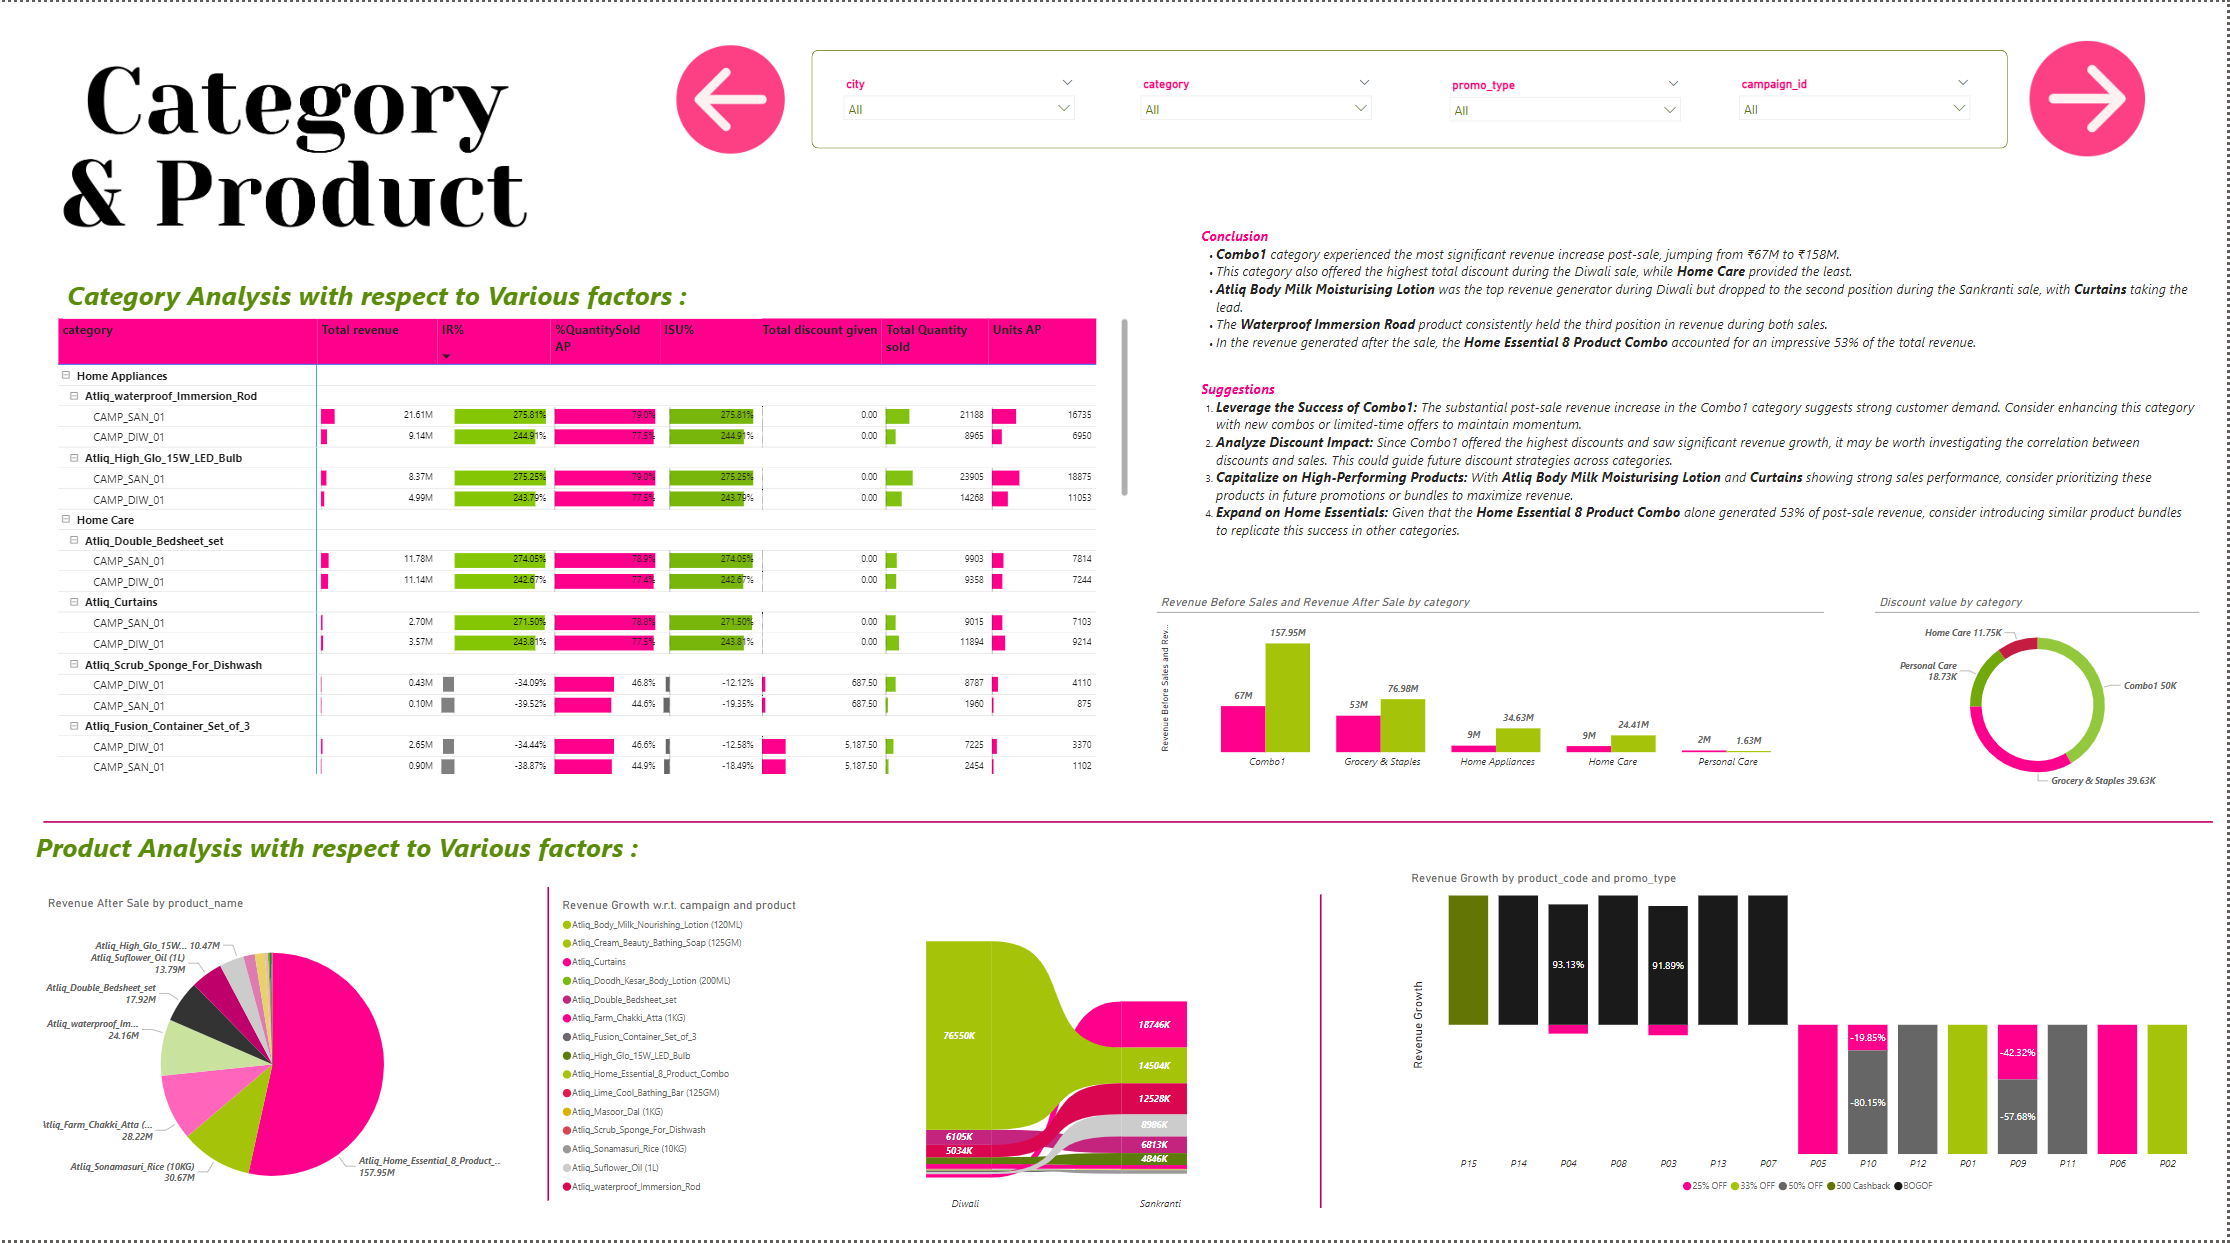

The page's visual inventory and layout, read from the dashboard file:
{"tool":"powerbi","page":{"name":"category","canvas":[1600,950],"ordinal":3},"visuals":[{"type":"group","id":"g1","title":"Group 2","box":[717.8,47,147.5,72.5],"z":0,"group":"g6"},{"type":"card","title":"Total revenue","fields":{"Values":["KPI.Total revenue"]},"box":[717.8,47,147.2,72.1],"z":0,"group":"g1"},{"type":"group","id":"g2","title":"Group 1","box":[1368.1,59.1,138.3,70.2],"z":0,"group":"g8"},{"type":"card","title":"ISU%","fields":{"Values":["KPI.ISU%"]},"box":[1368.1,59.1,137.4,69.9],"z":0,"group":"g2"},{"type":"group","id":"g3","title":"Group 1","box":[1206.4,70.4,137.5,70],"z":0,"group":"g7"},{"type":"card","title":"Incremental revenue","fields":{"Values":["KPI.Incremental Revenue"]},"box":[1206.4,70.4,137.4,69.9],"z":0,"group":"g3"},{"type":"areaChart","fields":{"Category":["dim_products.category"],"Y":["KPI.Revenue Before Sales","KPI.Revenue After Sale"]},"box":[722.1,198.1,377.5,296.2],"z":0},{"type":"shape","box":[735.8,28.8,114.9,112.8],"z":1000,"group":"g6"},{"type":"shape","box":[1217.6,40.4,115,115],"z":1000,"group":"g7"},{"type":"shape","box":[1368.4,40.4,136.2,127.7],"z":1000,"group":"g8"},{"type":"columnChart","fields":{"Category":["dim_products.category"],"Y":["KPI.ISU"]},"box":[1112.1,198.1,327.5,296.2],"z":1000},{"type":"donutChart","fields":{"Y":["KPI.Discount Amount"],"Category":["dim_products.category"]},"box":[372.1,198.1,337.5,296.2],"z":2000},{"type":"pivotTable","fields":{"Rows":["dim_products.category","dim_products.product_name","fact_events.campaign_id"],"Values":["KPI.Total revenue","KPI.IR%","KPI.%QuantitySoldAfterSale","KPI.ISU%","KPI.Discount value","KPI.Total Quantity sold","Sum(fact_events.quantity_sold(after_promo))"]},"box":[159.6,513.1,1280,415],"z":3000},{"type":"card","title":"ISU","fields":{"Values":["KPI.ISU"]},"box":[1052.5,56.3,132.5,67.5],"z":3001,"group":"g4"},{"type":"card","title":"categoris","fields":{"Values":["Count(dim_products.category)"]},"box":[893.8,56.5,129.8,68.1],"z":3002,"group":"g5"},{"type":"shape","box":[905.8,33.2,112.8,112.8],"z":3007,"group":"g5"},{"type":"shape","box":[1060,40.1,116.2,111.2],"z":3008,"group":"g4"},{"type":"group","id":"g4","title":"Group 3","box":[1052.5,40.1,131.9,110.6],"z":4000},{"type":"group","id":"g5","title":"Group 4","box":[893.8,33.2,129.8,112.8],"z":5000},{"type":"group","id":"g6","title":"Group 5","box":[717.8,28.8,147.5,112.8],"z":6000},{"type":"group","id":"g7","title":"Group 6","box":[1206.4,40.4,138.3,114.9],"z":7000},{"type":"slicer","fields":{"Values":["dim_products.category"]},"box":[157.1,346.8,190,68.8],"z":8000},{"type":"slicer","fields":{"Values":["dim_stores.city"]},"box":[154.6,175.6,190,68.8],"z":9000},{"type":"slicer","fields":{"Values":["fact_events.promo_type"]},"box":[154.6,255.6,190,68.8],"z":10000},{"type":"slicer","fields":{"Values":["fact_events.campaign_id"]},"box":[154.6,425.6,192.5,68.8],"z":11000},{"type":"image","box":[1410.6,397.9,189.4,151.1],"z":12000},{"type":"image","box":[0,414.9,189.4,151.1],"z":13000},{"type":"image","box":[95.7,134,68.1,74.5],"z":14000},{"type":"image","box":[193.6,38.3,178.7,95.7],"z":15000},{"type":"shape","box":[397.9,34,272.3,104.3],"z":16000},{"type":"group","id":"g8","title":"Group 6","box":[1368.1,40.4,138.3,127.7],"z":17000}]}

Visuals, with their boxes on the page's 1600x950 design canvas (x1, y1, x2, y2). These are canvas units, not pixel positions in the 2230x1243 screenshot, which may show the page scaled, cropped or inside an application window:
"Group 2" group: l=718, t=47, r=865, b=120
"Total revenue" card: l=718, t=47, r=865, b=119
"Group 1" group: l=1368, t=59, r=1506, b=129
"ISU%" card: l=1368, t=59, r=1506, b=129
"Group 1" group: l=1206, t=70, r=1344, b=140
"Incremental revenue" card: l=1206, t=70, r=1344, b=140
areaChart - dim_products.category x KPI.Revenue Before Sales: l=722, t=198, r=1100, b=494
shape: l=736, t=29, r=851, b=142
shape: l=1218, t=40, r=1333, b=155
shape: l=1368, t=40, r=1505, b=168
columnChart - dim_products.category x KPI.ISU: l=1112, t=198, r=1440, b=494
donutChart - KPI.Discount Amount x dim_products.category: l=372, t=198, r=710, b=494
pivotTable - dim_products.category x dim_products.product_name: l=160, t=513, r=1440, b=928
"ISU" card: l=1052, t=56, r=1185, b=124
"categoris" card: l=894, t=56, r=1024, b=125
shape: l=906, t=33, r=1019, b=146
shape: l=1060, t=40, r=1176, b=151
"Group 3" group: l=1052, t=40, r=1184, b=151
"Group 4" group: l=894, t=33, r=1024, b=146
"Group 5" group: l=718, t=29, r=865, b=142
"Group 6" group: l=1206, t=40, r=1345, b=155
slicer - dim_products.category: l=157, t=347, r=347, b=416
slicer - dim_stores.city: l=155, t=176, r=345, b=244
slicer - fact_events.promo_type: l=155, t=256, r=345, b=324
slicer - fact_events.campaign_id: l=155, t=426, r=347, b=494
image: l=1411, t=398, r=1600, b=549
image: l=0, t=415, r=189, b=566
image: l=96, t=134, r=164, b=208
image: l=194, t=38, r=372, b=134
shape: l=398, t=34, r=670, b=138
"Group 6" group: l=1368, t=40, r=1506, b=168
